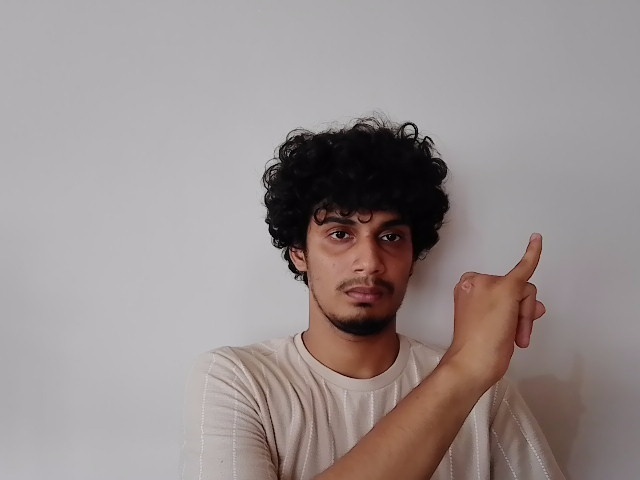bad: (455, 234, 546, 388)
